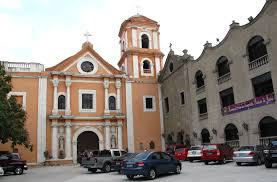san_agustin_church_intramuros_manila: (41, 8, 168, 164)
